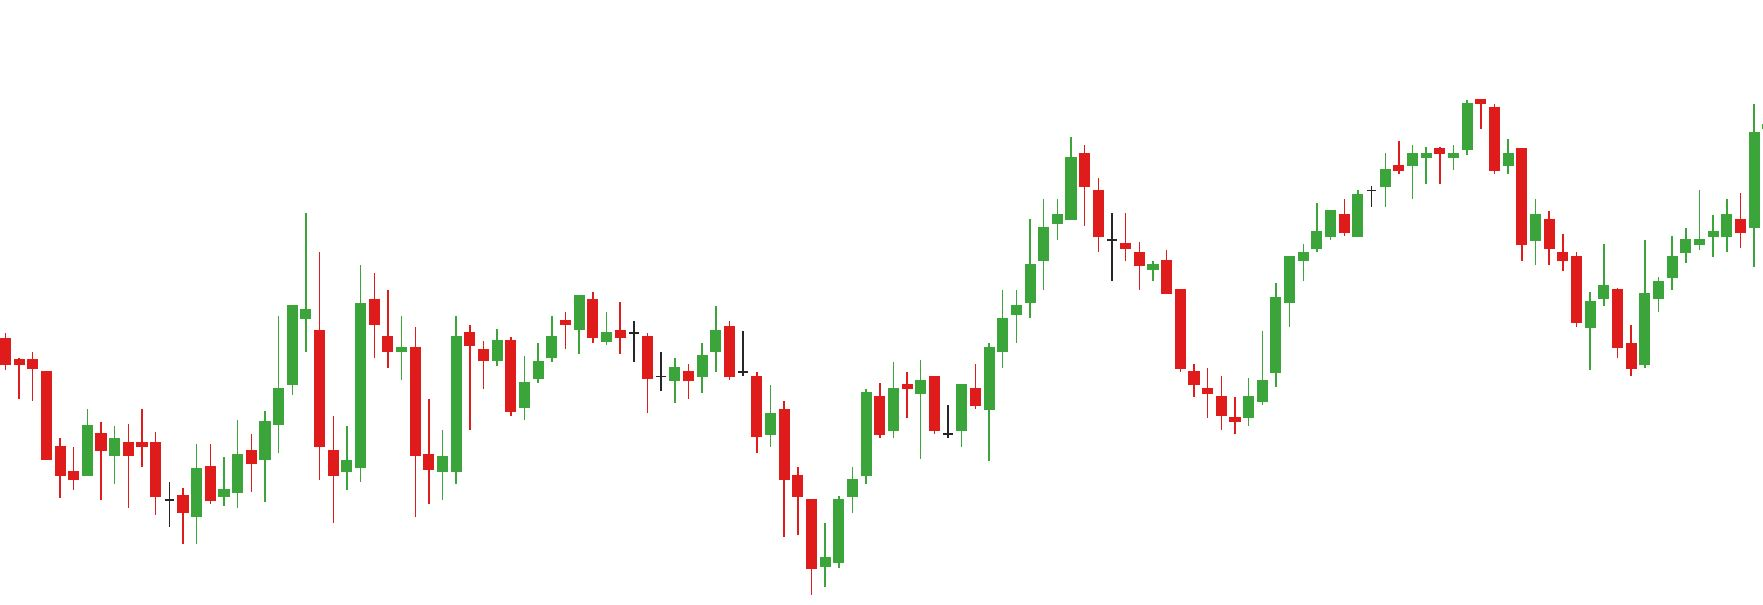buy: (421, 361, 849, 592), (243, 358, 352, 522)
